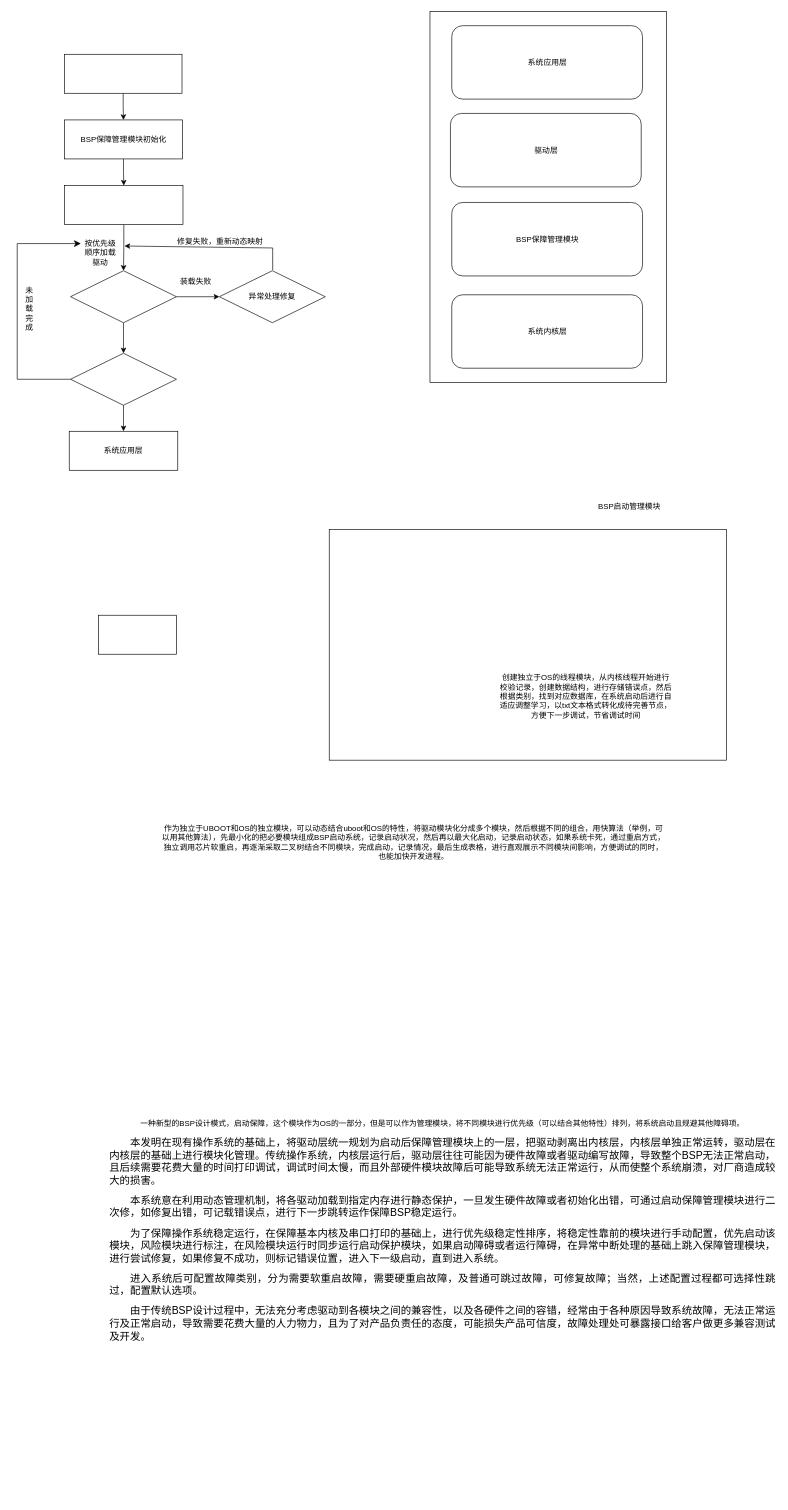
The diagram is 788 pixels wide and 1510 high, and some of its shapes have lost their labels. The box of each missing label's shape, as (x1, y1, x2, y2) in pixels:
内核层初始化: (64, 54, 182, 93)
加载完成: (70, 353, 176, 405)
装载驱动模块并做动态映射处理: (64, 185, 183, 225)
驱动模块装载: (70, 270, 176, 323)
